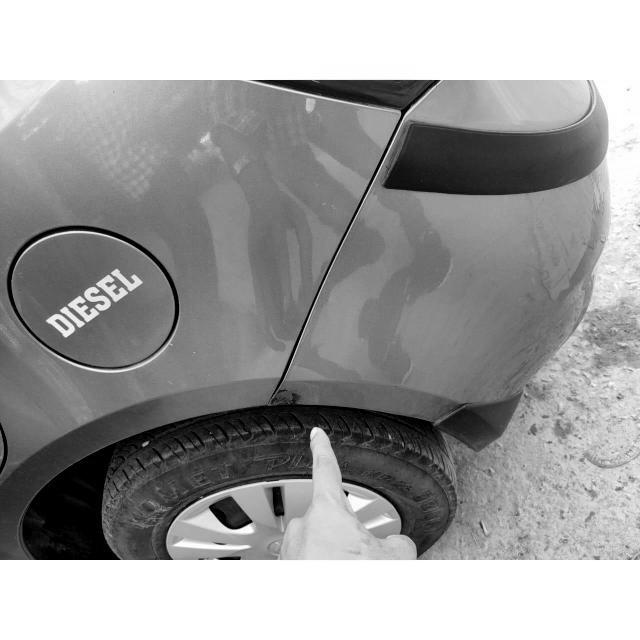rear-bumper-dent: (252, 231, 604, 491)
